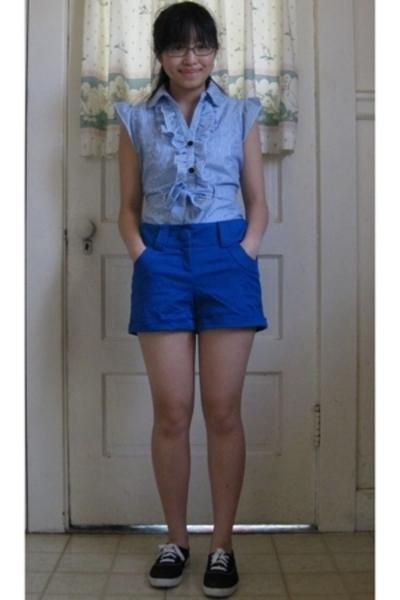shirt: (121, 84, 264, 224)
shoe: (149, 529, 238, 587)
shorts: (128, 73, 266, 338)
